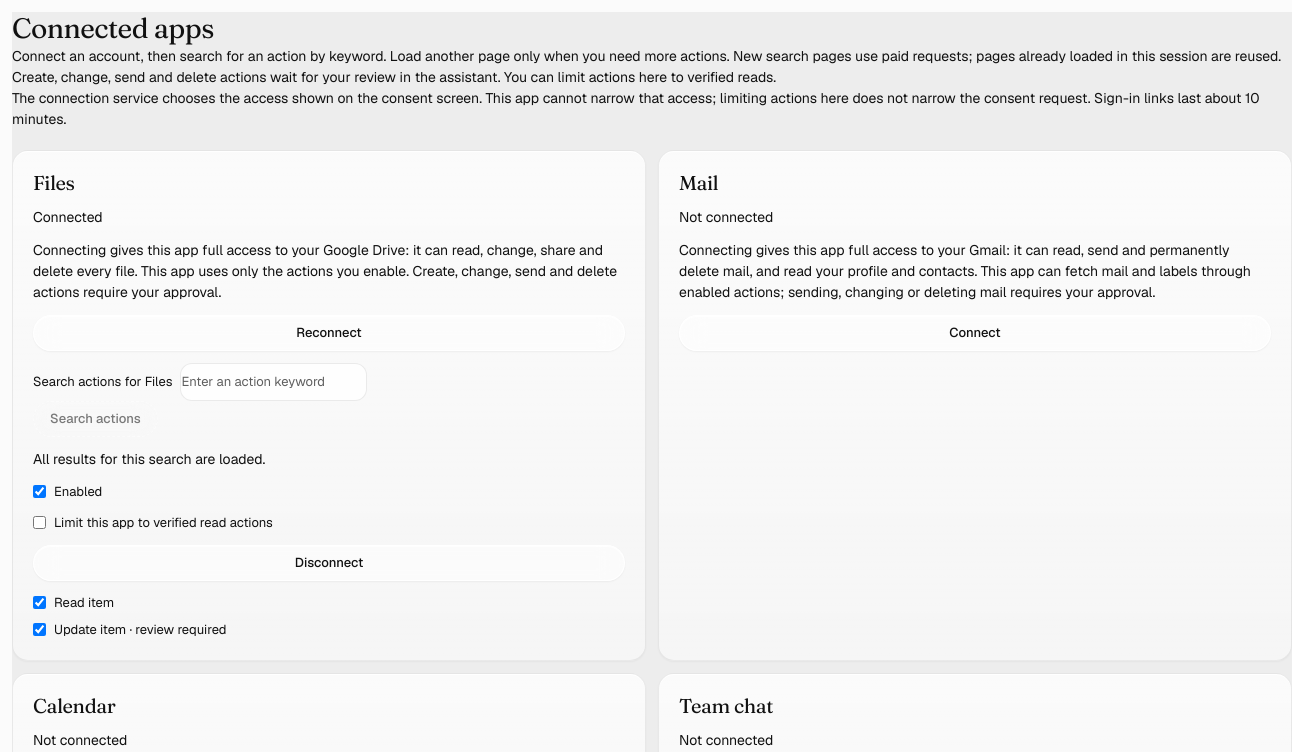
Connected apps › shows a safe failed refresh message
The width and height of the screenshot is (1292, 752).
Expected: the text "Read item" is shown, [33,594,114,611]
Type "find file" into the search field labelled "Search actions for Files" at (274, 382), box [180,363,367,401]
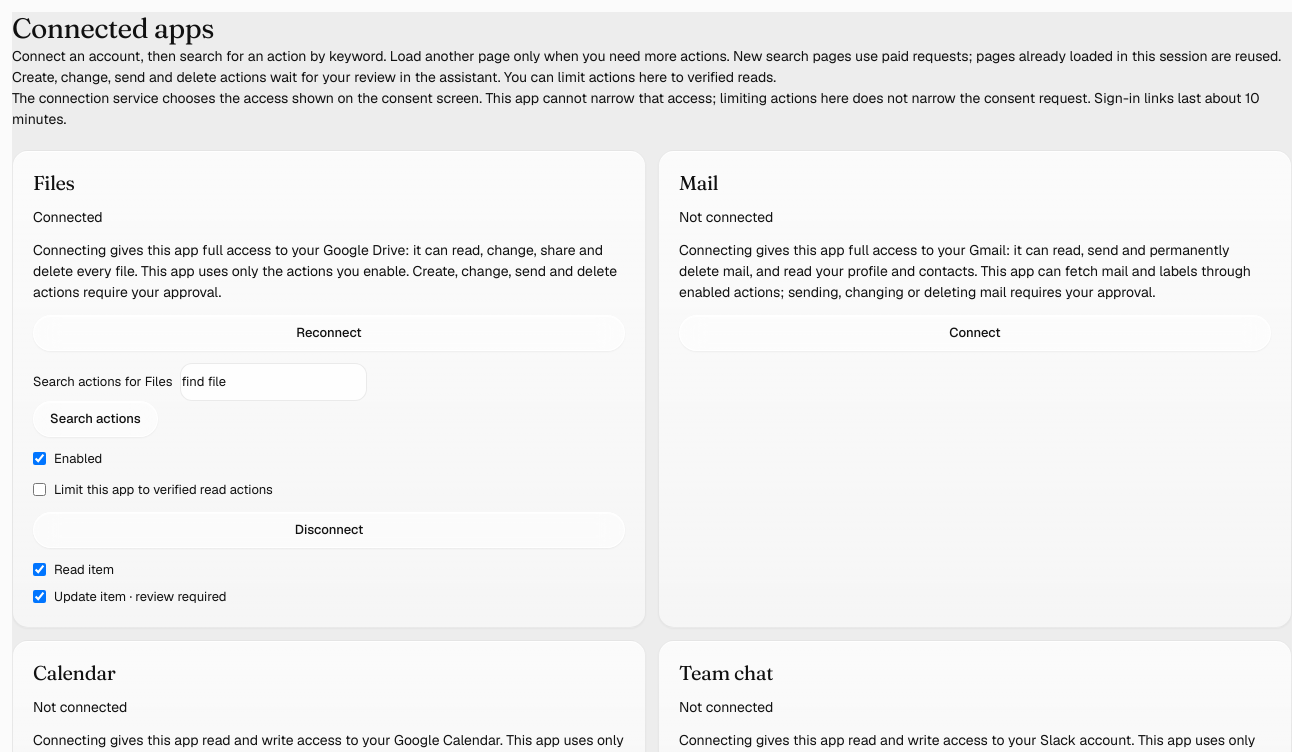
Click the button "Search actions" at (95, 419), box [33,401,158,437]
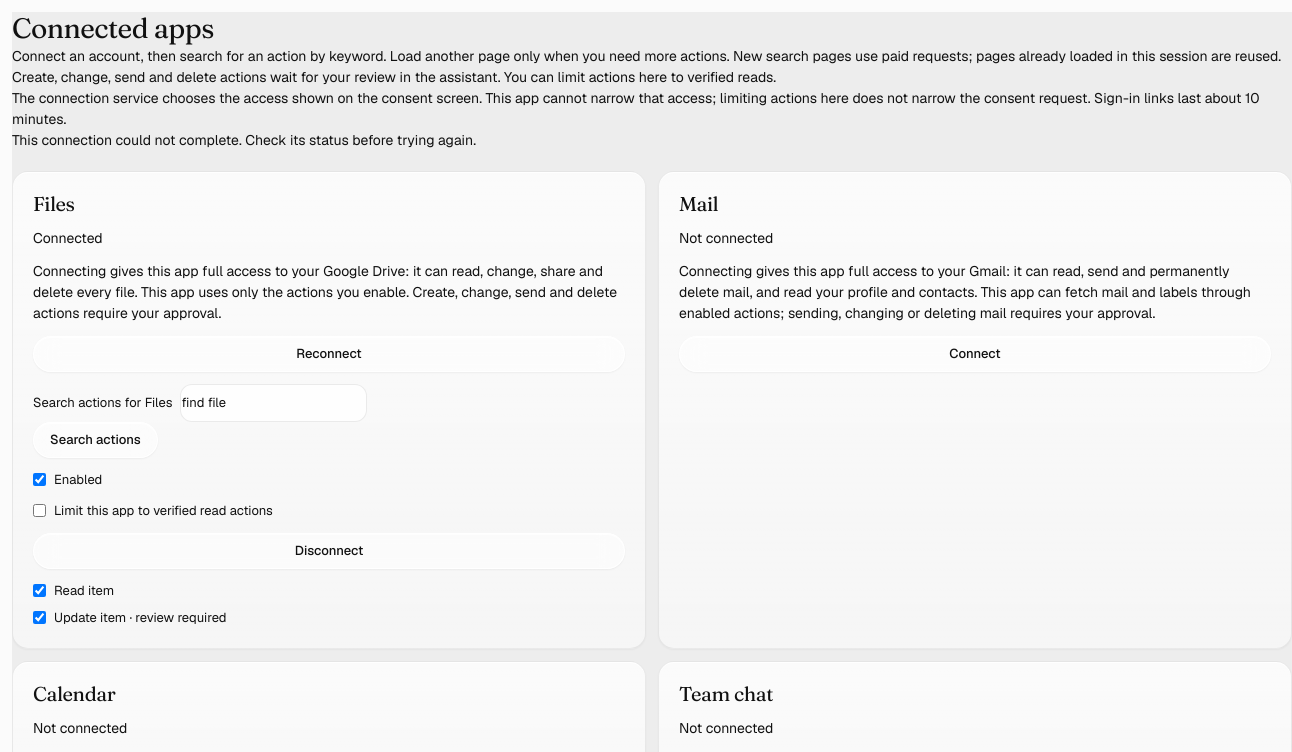
Expected: the message shows "Check its status", [12,131,476,149]
